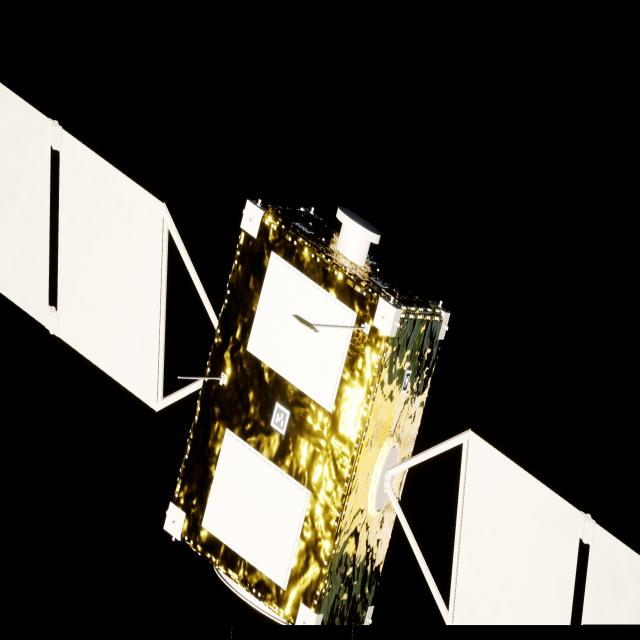satellite: (0, 83, 640, 629)
